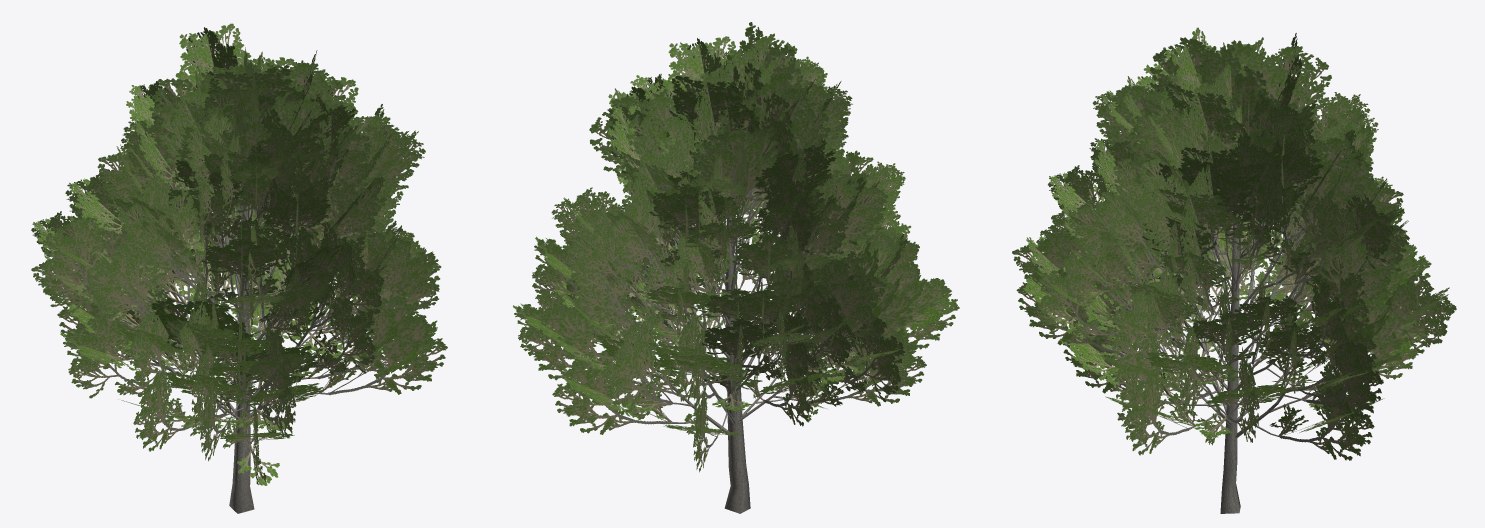
Rendered from FraxinusAmericana.glb.
The picture shows the model from 3 angles, left to right: view 1: azimuth 30°, elevation 25°; view 2: azimuth 150°, elevation 25°; view 3: azimuth 270°, elevation 25°; orthographic projection.
Visible parts, largest first — view 1: White_Ash__Realistic_LOD3; view 2: White_Ash__Realistic_LOD3; view 3: White_Ash__Realistic_LOD3.
Boxes of the visible parts, x1=… form: White_Ash__Realistic_LOD3: x1=31, y1=23, x2=447, y2=513; White_Ash__Realistic_LOD3: x1=513, y1=22, x2=959, y2=513; White_Ash__Realistic_LOD3: x1=1012, y1=27, x2=1456, y2=513.
Bounding box in the file's own units: 22.85 × 26.5 × 23.35.
1 material, 1 textured.
